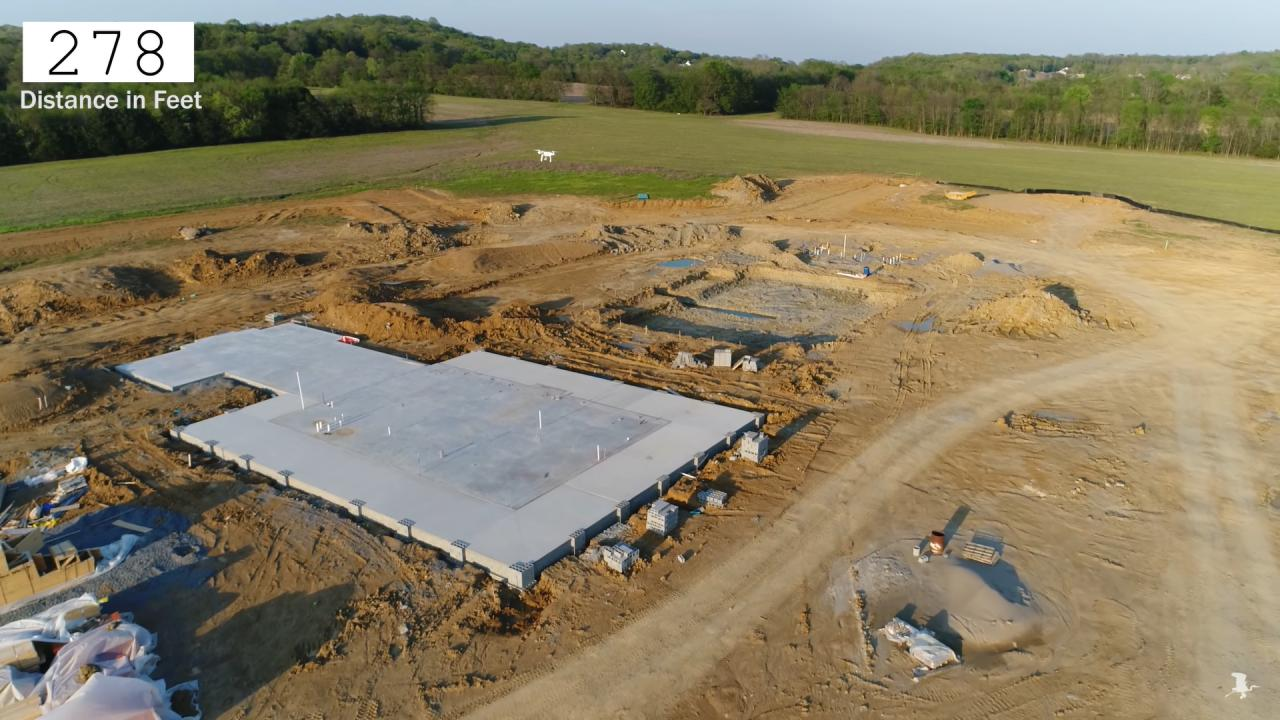Drone: (527, 140, 565, 172)
